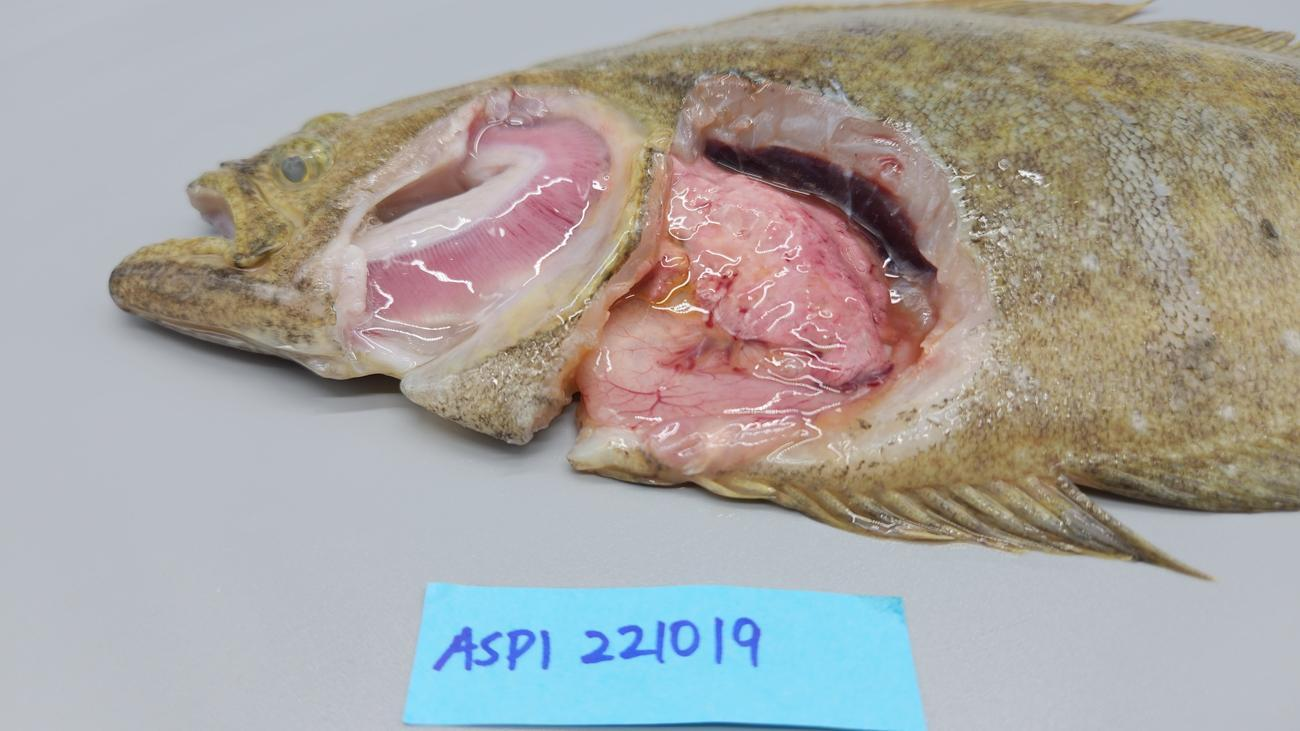SPGIP: (367, 119, 610, 313)
SPLIC: (665, 153, 892, 386)
